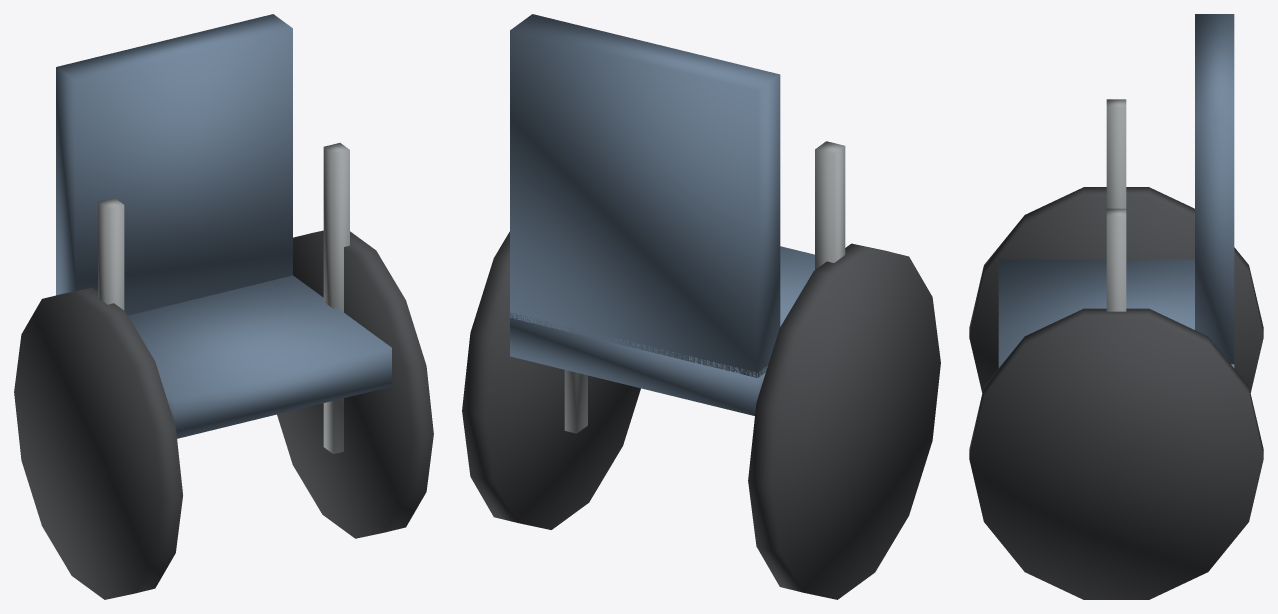
The model's file is wheelchair__compact.glb.
The picture shows the model from 3 angles, left to right: view 1: azimuth 30°, elevation 25°; view 2: azimuth 150°, elevation 25°; view 3: azimuth 270°, elevation 25°; orthographic projection. The views are drawn at different scales.
Visible parts, largest first — view 1: world; view 2: world; view 3: world.
Part boxes in pixels (x1,y1,x2,y2): world: (14, 14, 433, 599); world: (462, 14, 940, 599); world: (969, 14, 1263, 599).
Size of the model in its own units: 0.546 by 0.9044 by 0.516.
